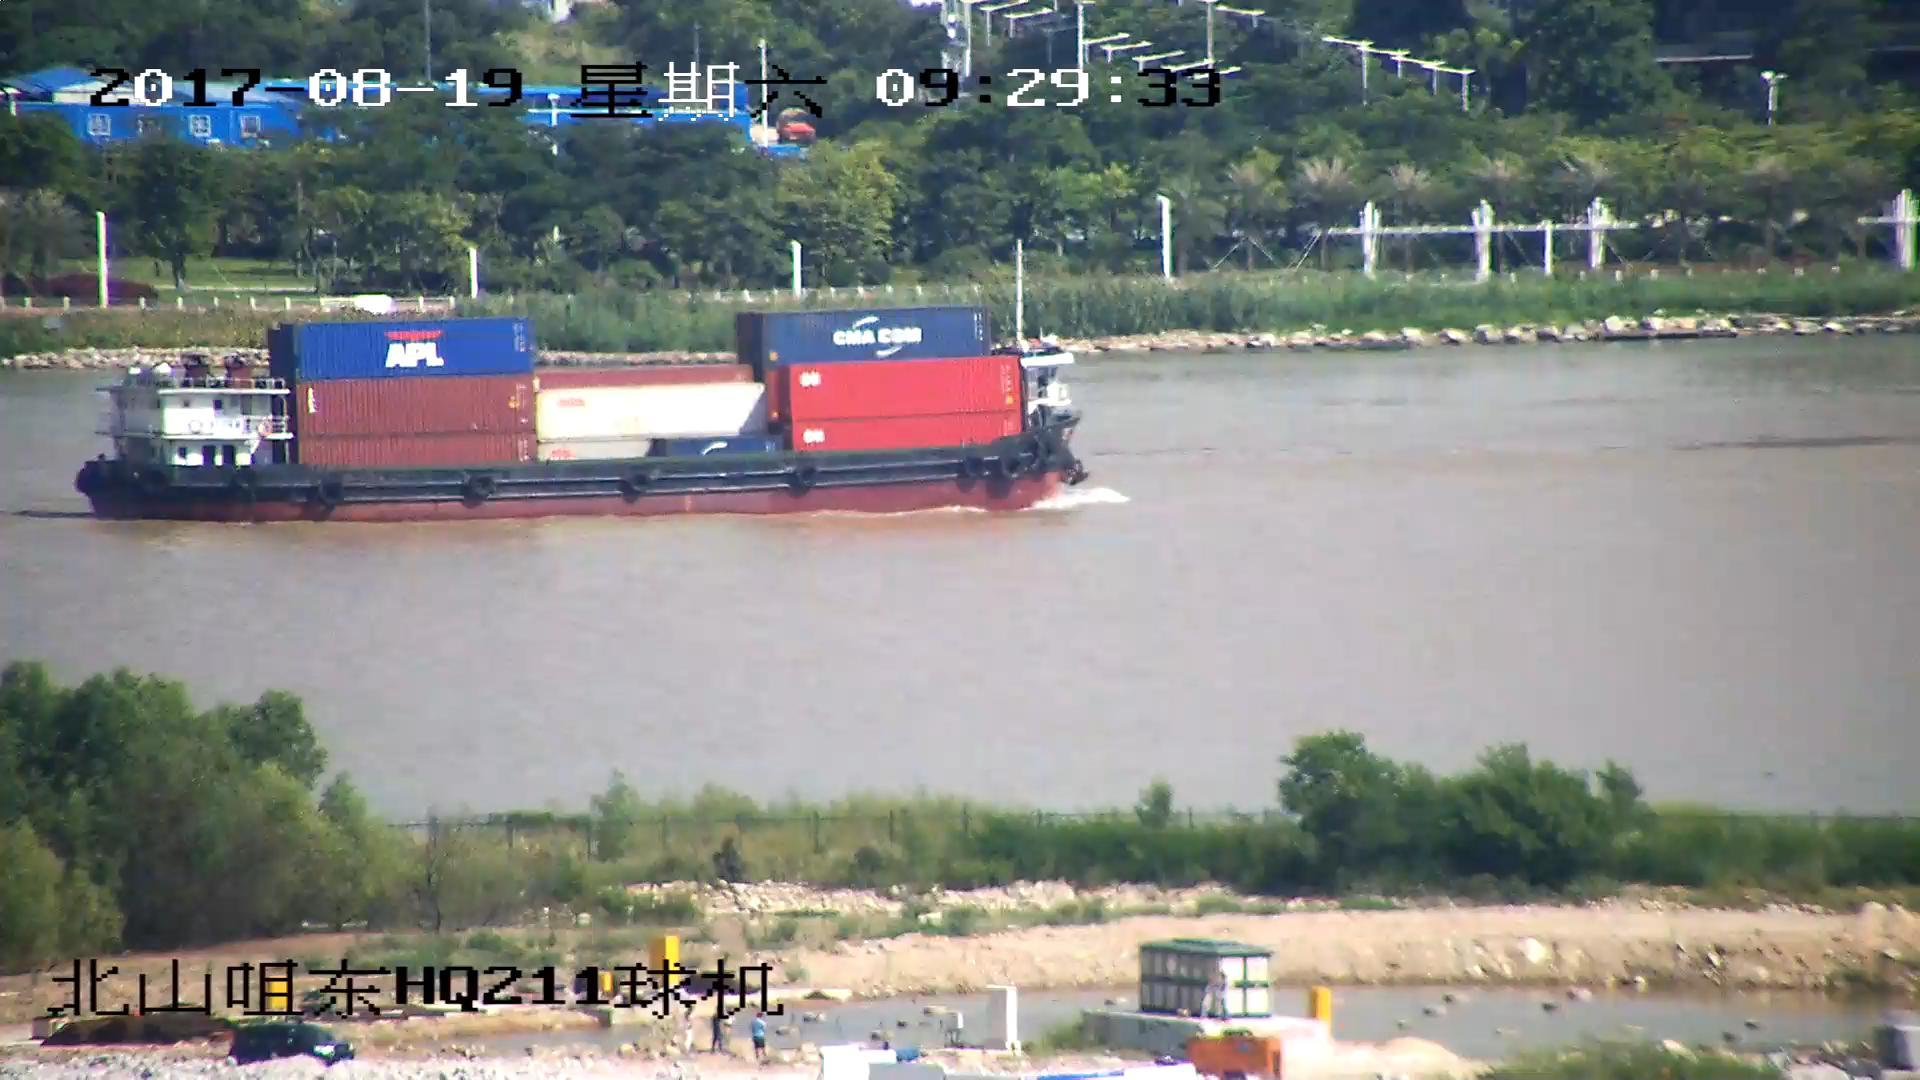Ship: (73, 255, 1104, 522)
